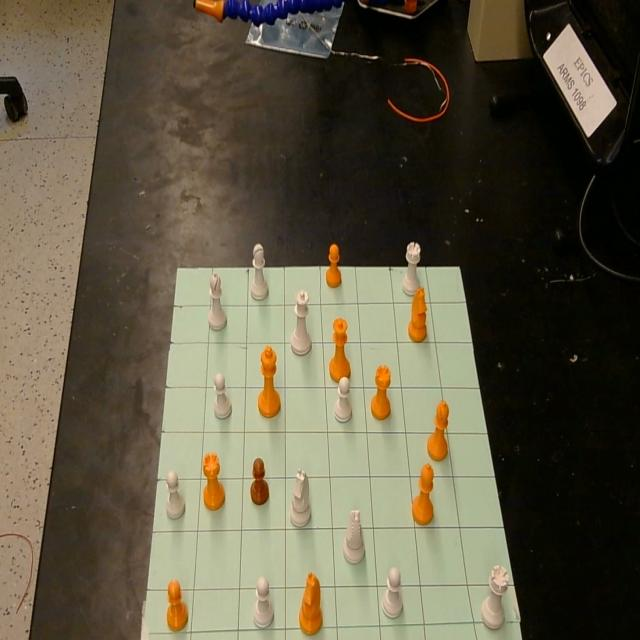orange_bishop: (411, 464, 435, 526), (426, 400, 449, 462)
orange_king: (258, 346, 281, 418), (203, 451, 225, 510)
orange_knight: (298, 571, 322, 634), (408, 286, 428, 342)
orange_pawn: (166, 578, 188, 631), (250, 458, 269, 505), (326, 243, 342, 288)
orange_queen: (329, 318, 350, 383)
orange_rook: (371, 365, 392, 420)
white_bishop: (208, 270, 227, 331), (250, 244, 268, 301)
white_knight: (289, 468, 311, 526), (342, 509, 364, 563)
white_pawn: (253, 575, 274, 628), (382, 566, 403, 618), (165, 470, 185, 519), (212, 372, 232, 419), (334, 374, 352, 422)
white_queen: (290, 292, 311, 355)
white_rook: (481, 564, 509, 628), (402, 242, 421, 295)
